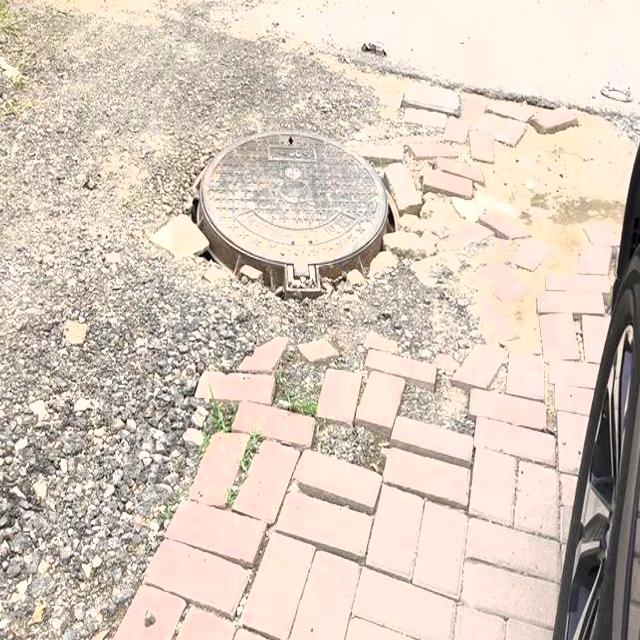circle: (132, 81, 467, 356)
